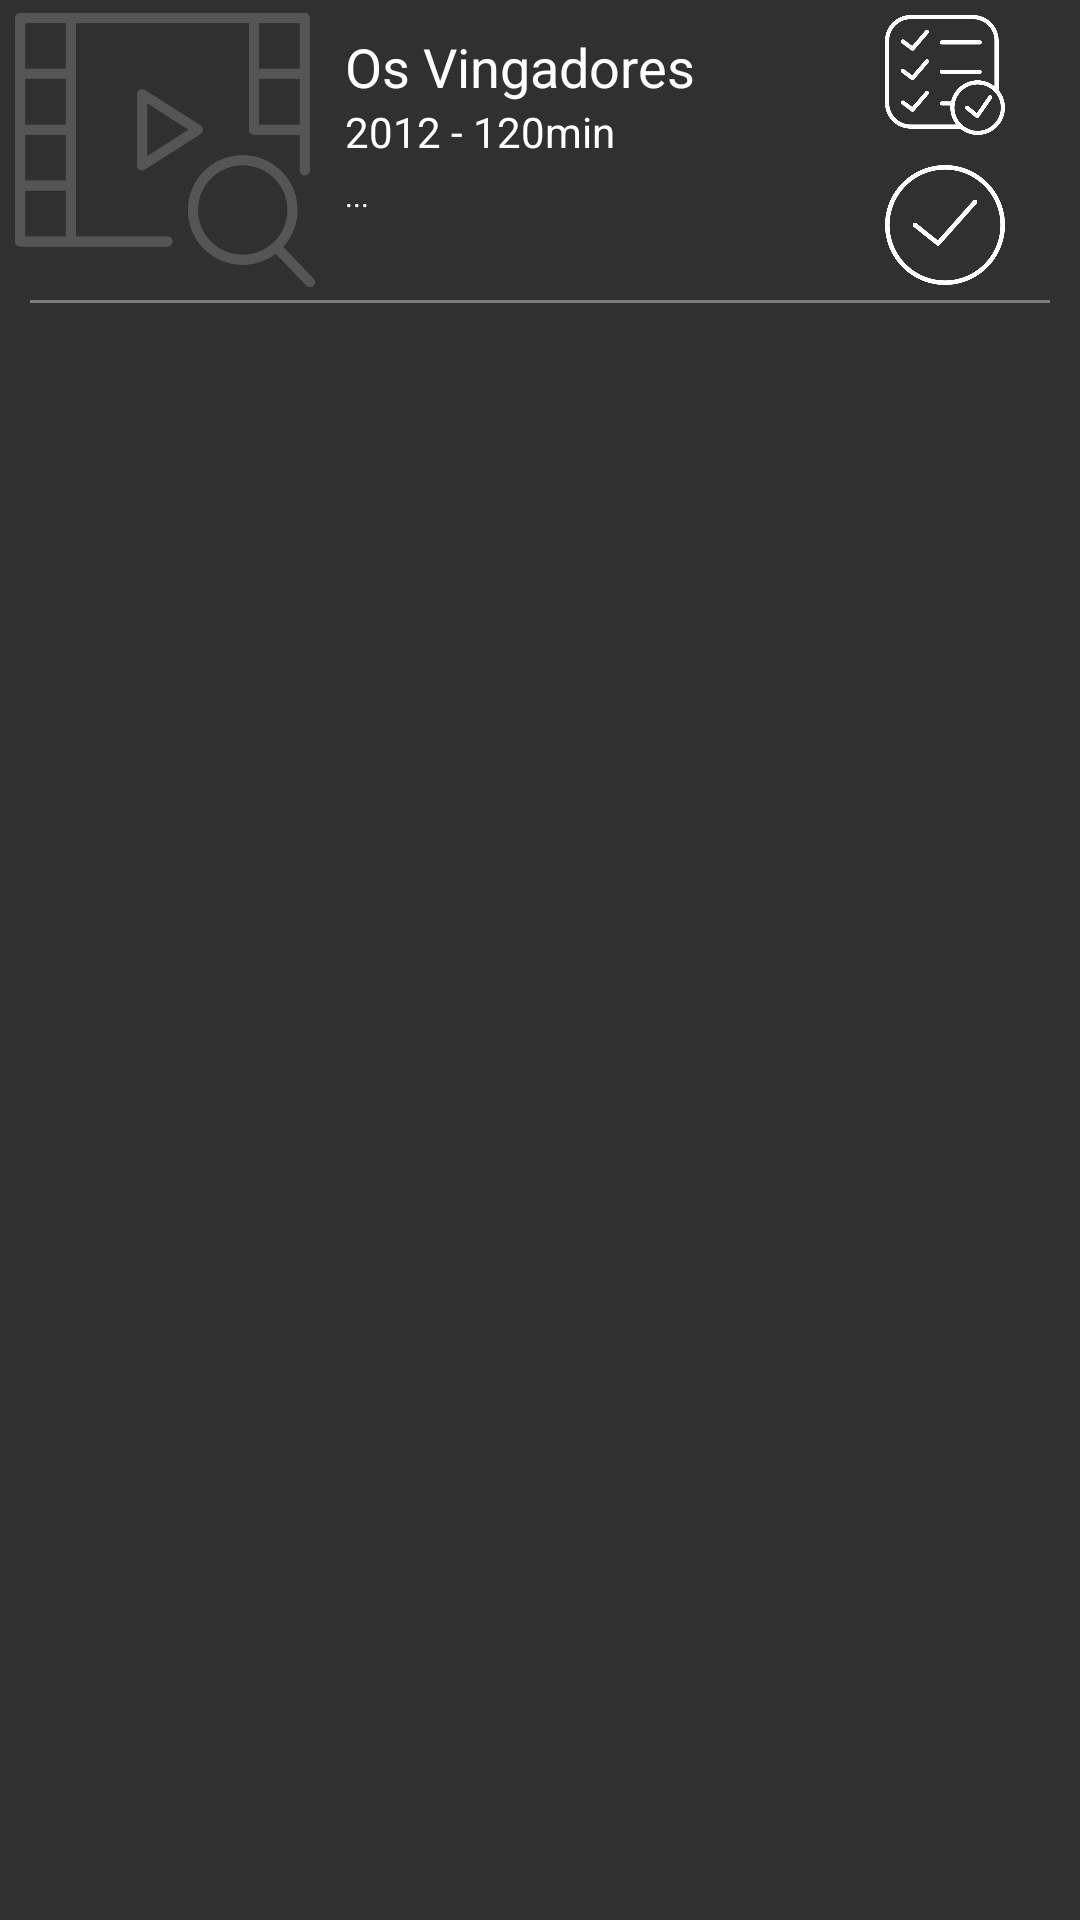

Locate icon controls on the screen. Image size 1080*1920, boxes as (x1, y1, x2, y2).
list: (885, 15, 1005, 135)
success: (885, 165, 1005, 285)
video player: (15, 13, 315, 287)
